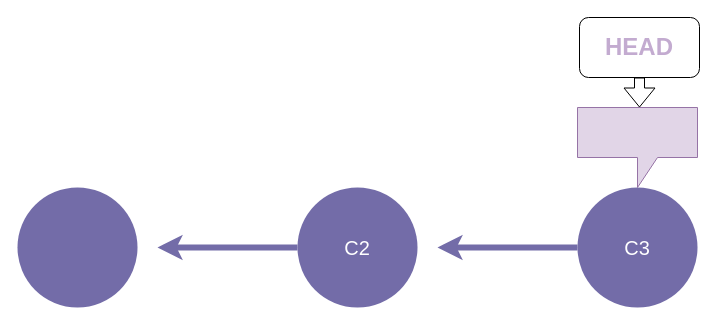
Some shapes in this 717 by 325 pixel diagram are drawn without their labels. The centre of each missing label's shape, as x and y in pixels:
C1: point (77, 247)
main: point (637, 147)
